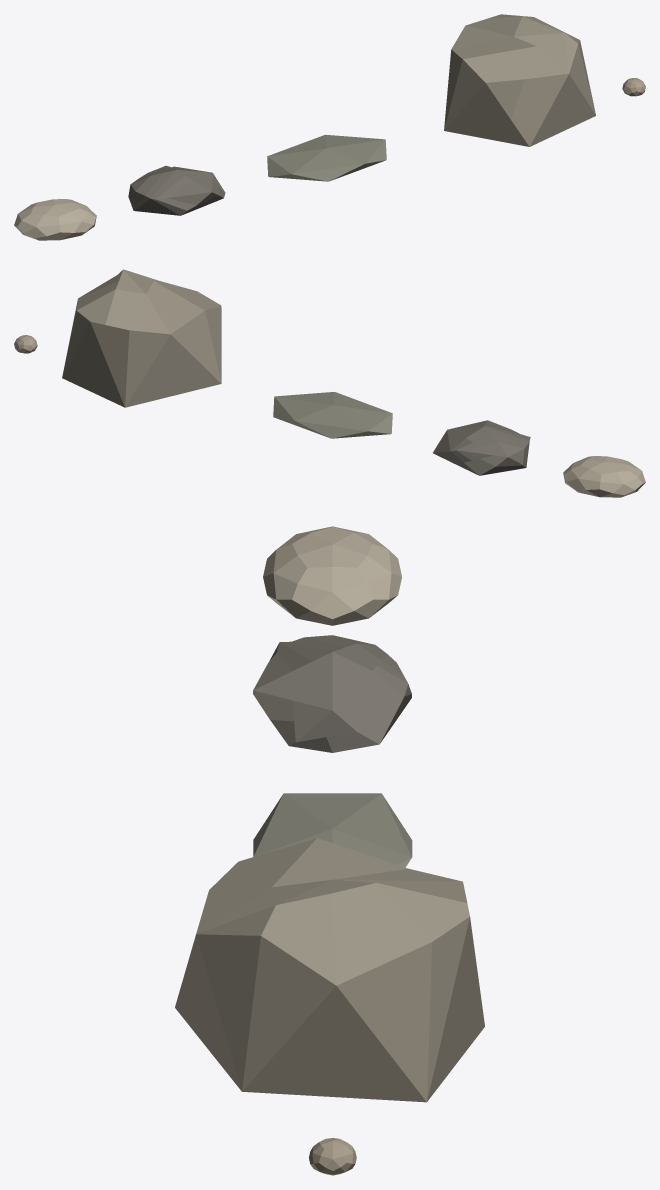
File: Stones_Pond.fbx
3 views of the same model, one above another, from view 1: azimuth 30°, elevation 25°; view 2: azimuth 150°, elevation 25°; view 3: azimuth 270°, elevation 25° (orthographic). The views are drawn at different scales.
Parts seen in each view (by area): view 1: Rock_Boulder_01, Rock_Flat_01, Medium Shore Rock, Rock_Small_01, Rock_Pebble_01; view 2: Rock_Boulder_01, Rock_Flat_01, Medium Shore Rock, Rock_Small_01, Rock_Pebble_01; view 3: Rock_Boulder_01, Medium Shore Rock, Rock_Small_01, Rock_Flat_01, Rock_Pebble_01.
Part boxes in pixels (x1=…): Rock_Boulder_01: x1=444, y1=14, x2=595, y2=146; Rock_Flat_01: x1=267, y1=134, x2=386, y2=181; Medium Shore Rock: x1=128, y1=165, x2=225, y2=215; Rock_Small_01: x1=14, y1=199, x2=96, y2=240; Rock_Pebble_01: x1=622, y1=78, x2=645, y2=96; Rock_Boulder_01: x1=62, y1=269, x2=221, y2=407; Rock_Flat_01: x1=273, y1=392, x2=392, y2=438; Medium Shore Rock: x1=433, y1=420, x2=530, y2=475; Rock_Small_01: x1=563, y1=456, x2=645, y2=497; Rock_Pebble_01: x1=14, y1=335, x2=37, y2=353; Rock_Boulder_01: x1=175, y1=838, x2=484, y2=1102; Medium Shore Rock: x1=253, y1=635, x2=411, y2=752; Rock_Small_01: x1=263, y1=526, x2=401, y2=625; Rock_Flat_01: x1=253, y1=793, x2=412, y2=867; Rock_Pebble_01: x1=309, y1=1138, x2=356, y2=1175.
Size of the model in its own units: 1550 by 224 by 332.
